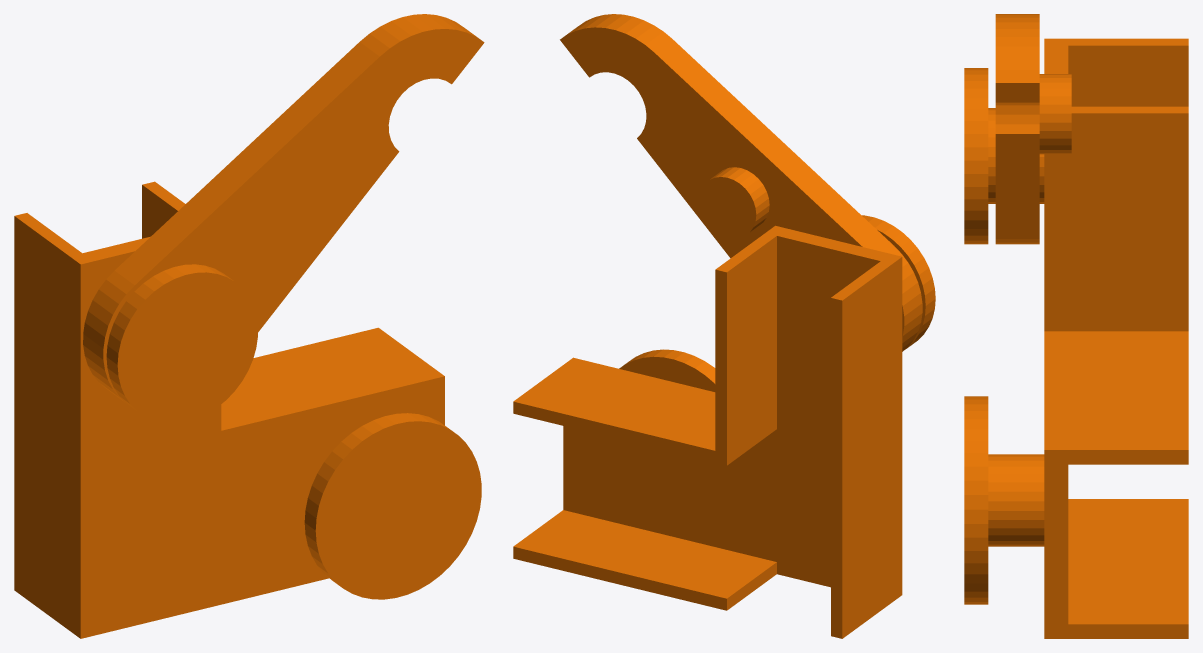
Rendered from CornerLatch.glb.
3 renders of one model, left to right at view 1: azimuth 30°, elevation 25°; view 2: azimuth 150°, elevation 25°; view 3: azimuth 270°, elevation 25°, orthographic. The views are drawn at different scales.
Visible parts, largest first — view 1: forGLB; view 2: forGLB; view 3: forGLB.
Part boxes in pixels (left/top/right/bottom): forGLB: left=14, top=14, right=484, bottom=638; forGLB: left=513, top=14, right=935, bottom=638; forGLB: left=964, top=14, right=1188, bottom=638.
Bounding box in the file's own units: 59.69 × 81.59 × 28.
